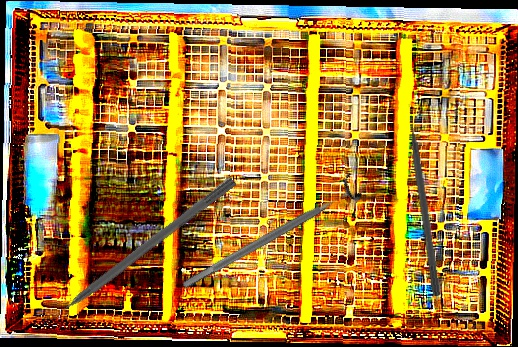Fixation Ring: (175, 171, 366, 300)
Pusher: (37, 174, 238, 330), (405, 102, 443, 297)
